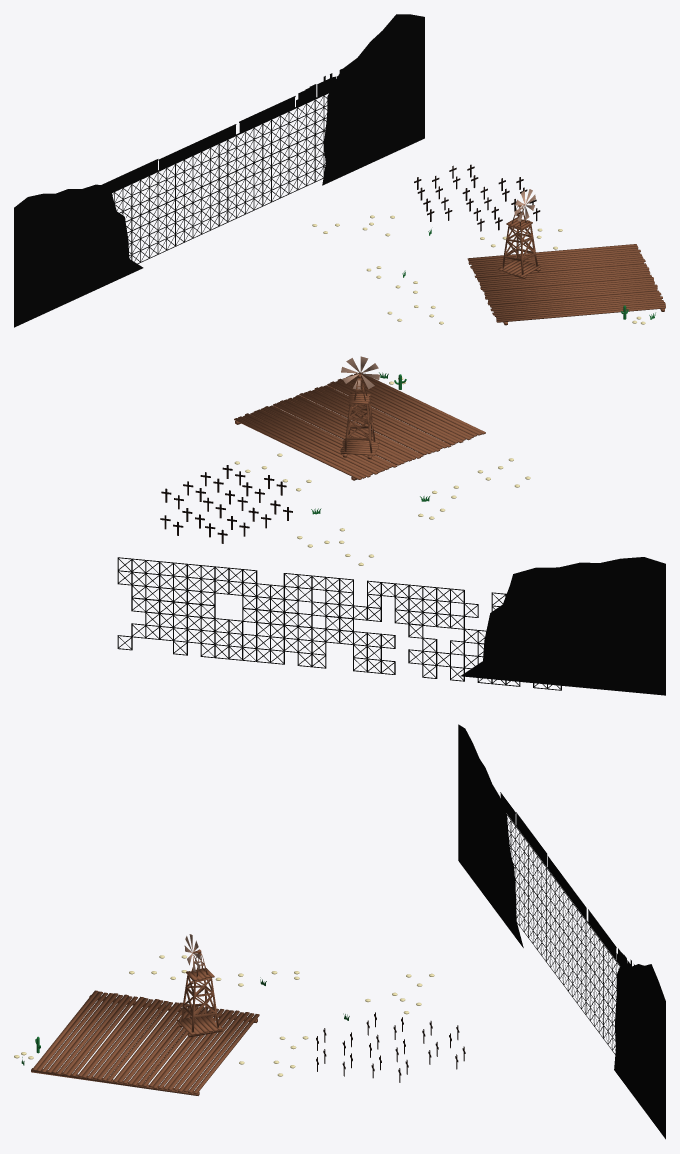
File: Bang Scenario 1.fbx
3 renders of one model, top to bottom at view 1: azimuth 30°, elevation 25°; view 2: azimuth 150°, elevation 25°; view 3: azimuth 270°, elevation 25°, orthographic. The views are drawn at different scales.
Parts seen in each view (by area): view 1: Montanha, Montanha_001, Plataforma.1, sustentacao, Trem, Moinho1_001.1; view 2: Montanha, sustentacao, Plataforma.1, Moinho1_001.1, Helices; view 3: Plataforma.1, Montanha, Montanha_001, sustentacao, Moinho1_001.1, Trem.
Boxes of the visible parts, x1,y1,x2,y2 form: Montanha: (14,184,143,327); Montanha_001: (322,14,424,185); Plataforma.1: (467,244,665,325); sustentacao: (112,92,328,263); Trem: (102,69,341,192); Moinho1_001.1: (498,203,540,278); Montanha: (460,557,665,695); sustentacao: (117,557,561,690); Plataforma.1: (234,372,485,480); Moinho1_001.1: (340,373,379,459); Helices: (341,356,379,389); Plataforma.1: (31,990,259,1095); Montanha: (458,724,523,947); Montanha_001: (614,961,665,1139); sustentacao: (506,814,619,1054); Moinho1_001.1: (177,949,222,1037); Trem: (500,792,634,966).
Bounding box in the file's own units: 77782 × 20110 × 75972.
6 materials, 5 textured.
